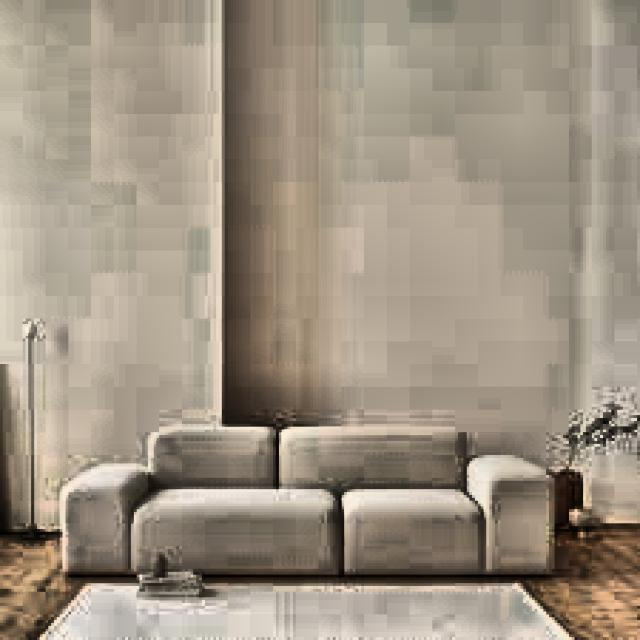sofa: (57, 427, 546, 583)
